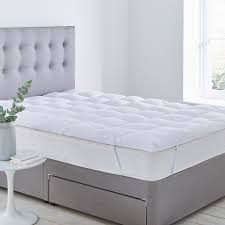bed-matress: (2, 89, 225, 182)
